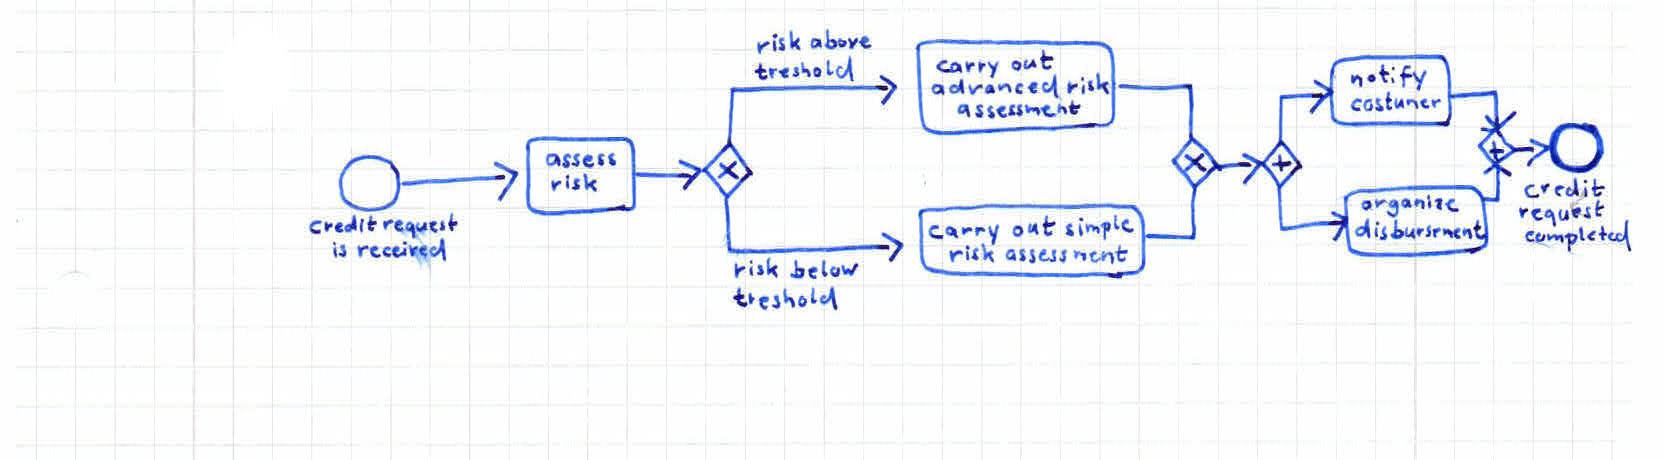above: (805, 25, 877, 55)
advanced: (929, 70, 1062, 104)
assess: (541, 149, 620, 173)
assessment: (1000, 242, 1134, 269), (955, 97, 1084, 123)
below: (786, 254, 863, 284)
carry: (924, 219, 1005, 250), (933, 55, 1007, 82)
completed: (1520, 217, 1636, 257)
costumer: (1347, 89, 1445, 116)
credit: (1519, 174, 1608, 203), (305, 212, 381, 240)
disbursement: (1351, 214, 1490, 245)
is: (326, 238, 354, 261)
notify: (1347, 61, 1429, 93)
organize: (1358, 192, 1463, 222)
out: (1006, 47, 1060, 76), (1009, 212, 1061, 243)
received: (352, 235, 451, 267)
request: (1515, 197, 1609, 232), (378, 210, 461, 243)
risk: (753, 29, 807, 59), (944, 240, 1000, 268), (729, 255, 783, 282), (545, 171, 603, 195), (1064, 70, 1112, 99)
simple: (1059, 211, 1139, 245)
treshold: (728, 283, 844, 316), (751, 55, 861, 85)
